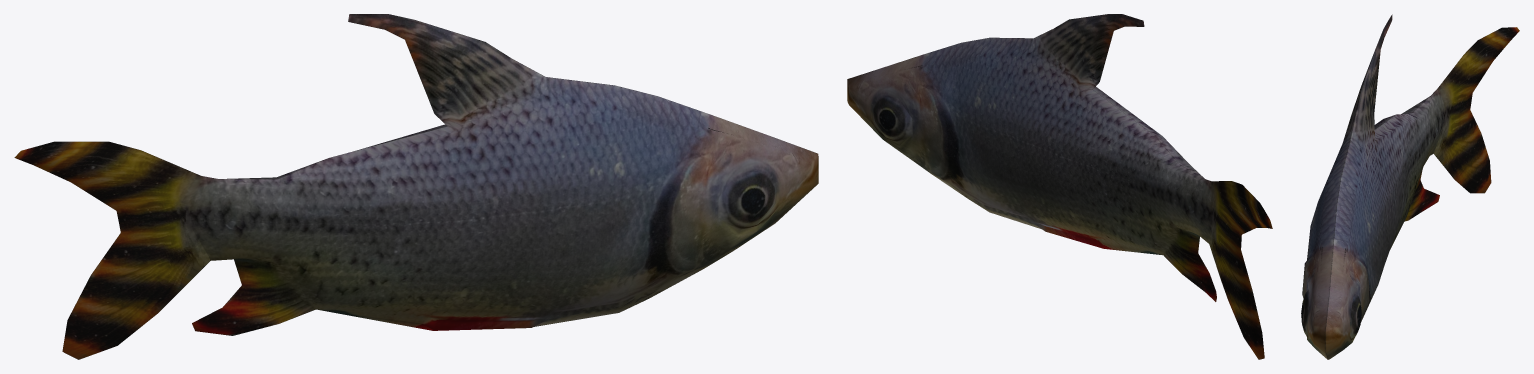
Rendered from Anim_Flagtail.gltf.
The picture shows the model from 3 angles, left to right: view 1: azimuth 30°, elevation 25°; view 2: azimuth 150°, elevation 25°; view 3: azimuth 270°, elevation 25°; orthographic projection. The views are drawn at different scales.
Parts seen in each view (by area): view 1: SK_Flagtail_LOD1.1 (Copy); view 2: SK_Flagtail_LOD1.1 (Copy); view 3: SK_Flagtail_LOD1.1 (Copy).
Part boxes in pixels (bbox=[...]): SK_Flagtail_LOD1.1 (Copy): bbox=[14, 14, 818, 359]; SK_Flagtail_LOD1.1 (Copy): bbox=[847, 14, 1272, 359]; SK_Flagtail_LOD1.1 (Copy): bbox=[1301, 14, 1519, 359].
Bounding box in the file's own units: 41.37 × 19.89 × 15.38.
1 material, 1 textured.
